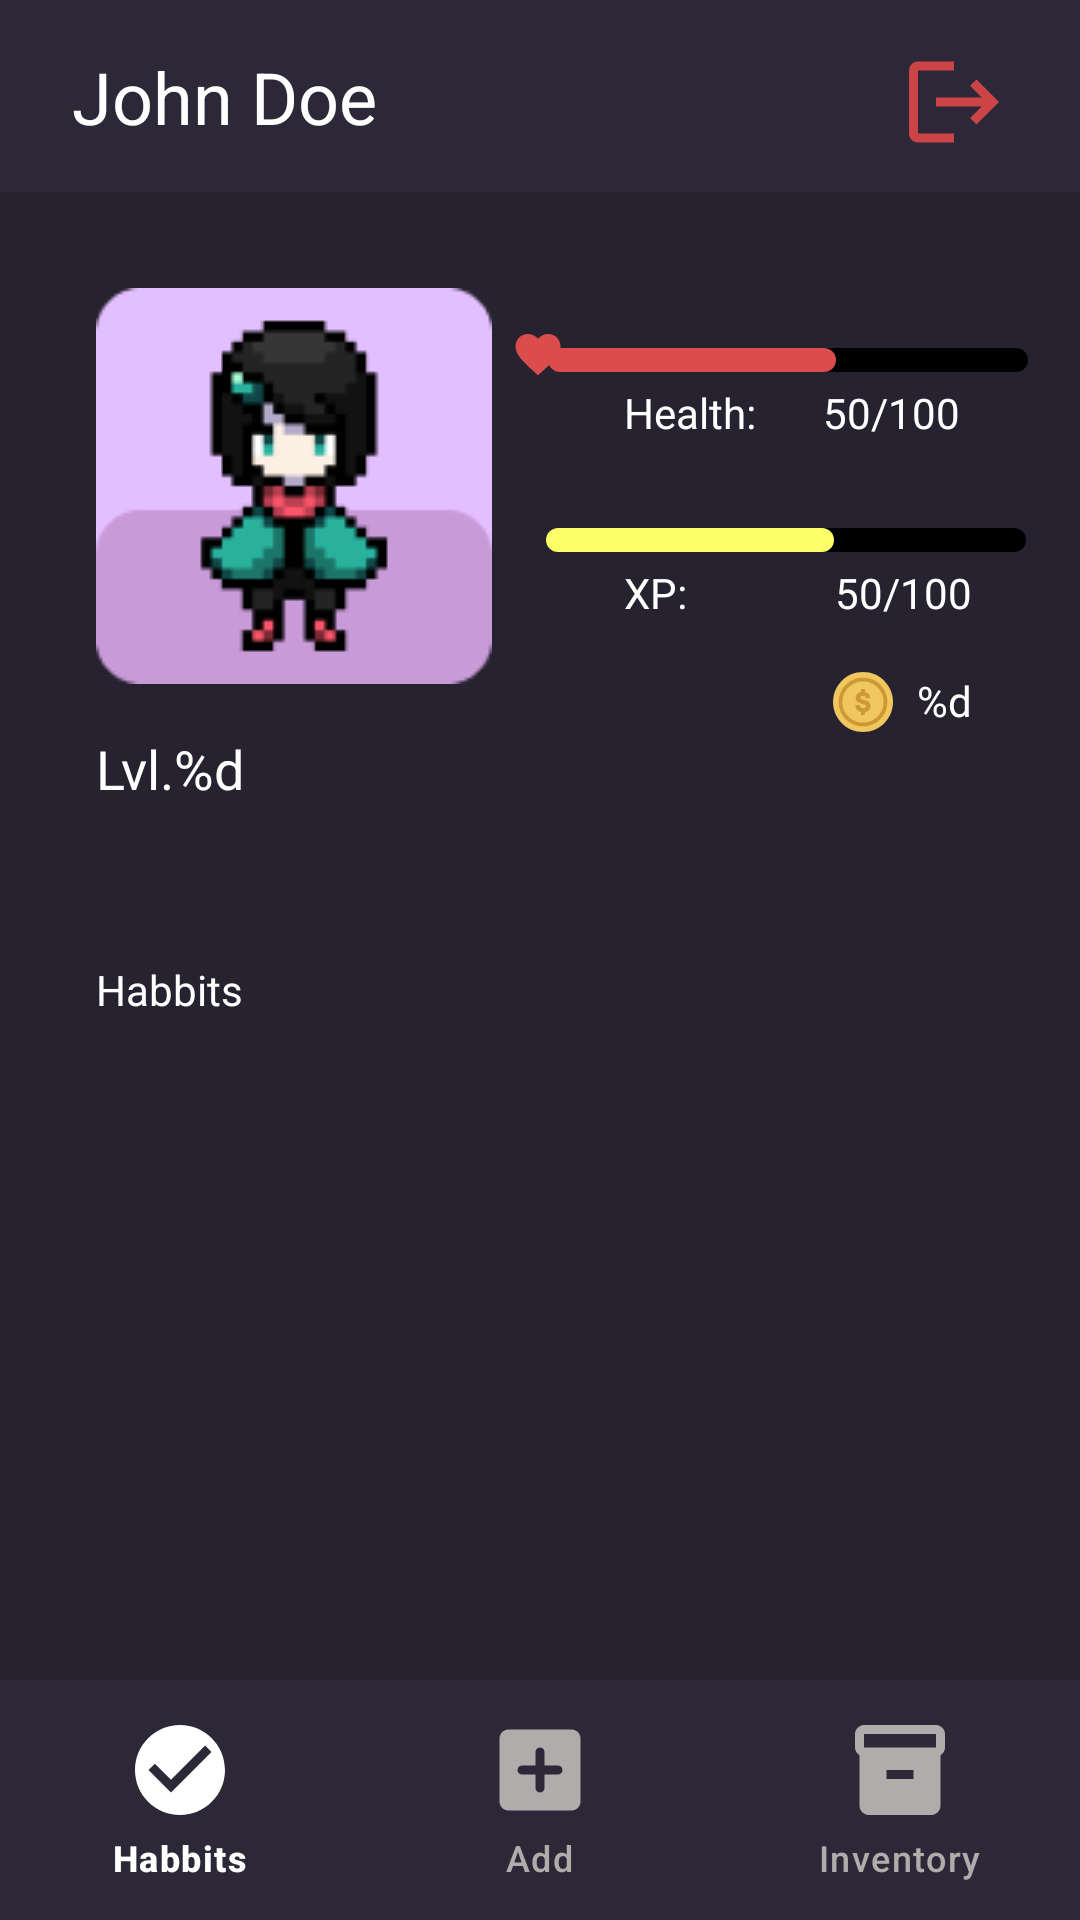

Icon click points for this 1080 x 1920 phone screenshot, format [x,y]:
coins: [863,702]
